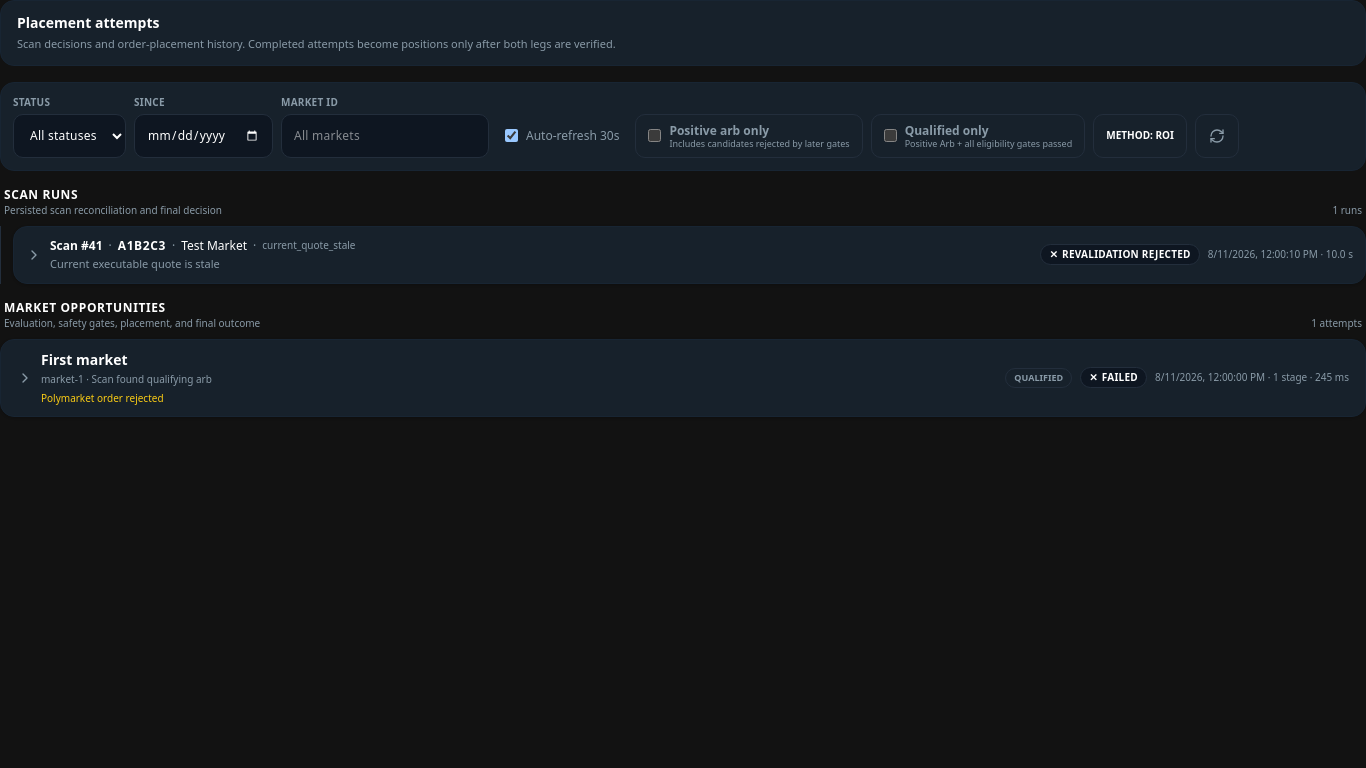
Test: BotActionLogs placement filters › restores separate scan-run, market, and stage hierarchy while preserving audit fields
Expected: the heading "Scan runs" is shown, [4,186,78,203]
Expected: the heading "Market opportunities" is shown, [4,299,166,316]
Click the button with aria-label "Expand scan 41," at (69, 245), box [14,227,1365,283]
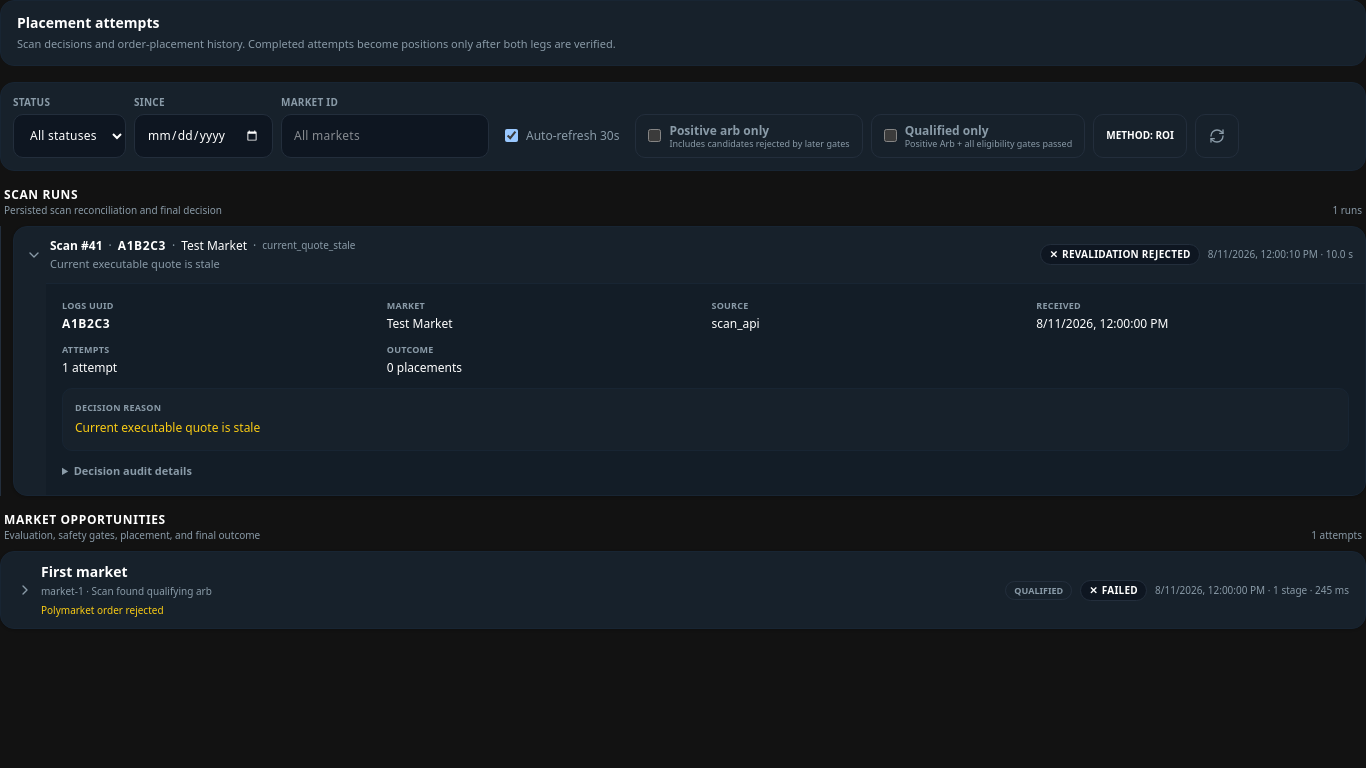
Expected: the text "Current executable quote is stale" below "Decision reason" is shown, [75,419,260,436]
Expected: the text "scan_api" is shown, [712,315,760,332]
Expected: the text "1 attempt" is shown, [62,359,117,376]
Click the button with aria-label "Expand attempt for First market," at (84, 572), box [1,552,1365,628]
(page scrolled)
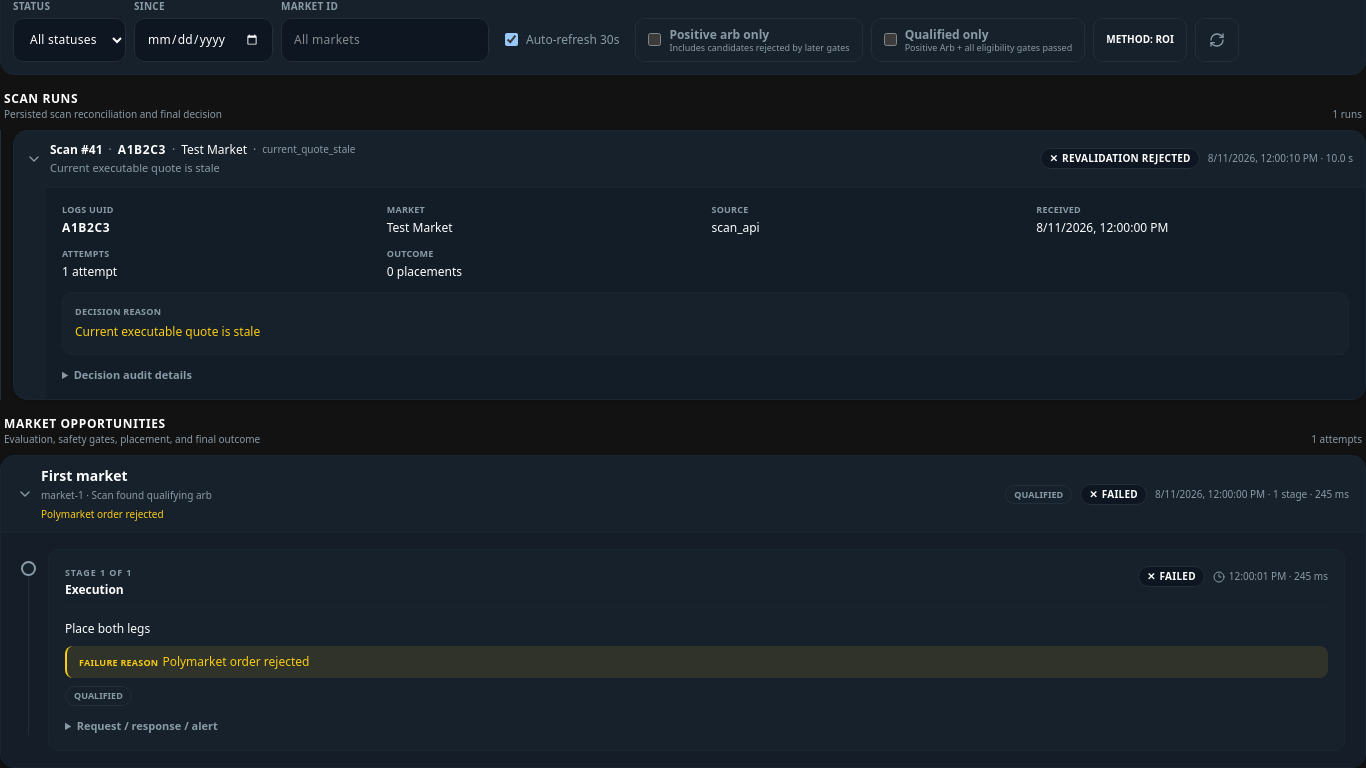
Expected: the heading "Execution" is shown, [65,582,132,598]
Expected: the text "Polymarket order rejected" is shown, [162,653,310,670]
Expected: the text "12:00:01 PM · 245 ms" is shown, [1213,569,1328,584]
Click the heading "Request / response / alert" at (147, 725), box [77,718,218,733]
(page scrolled)
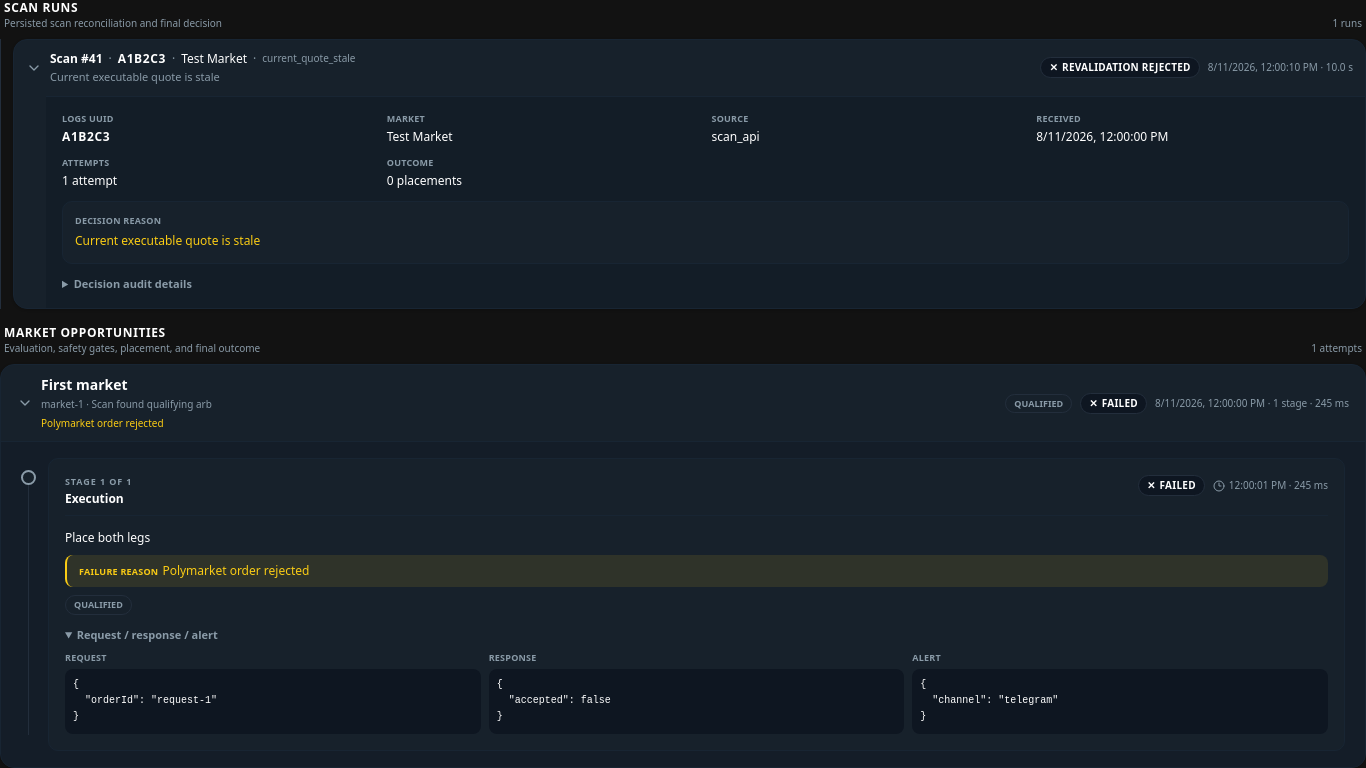
Expected: the text "{ \"orderId\": \"request-1\" }" is shown, [65,669,481,734]
Expected: the text "{ \"accepted\": false }" is shown, [489,669,904,734]
Expected: the text "{ \"channel\": \"telegram\" }" is shown, [912,669,1328,734]
